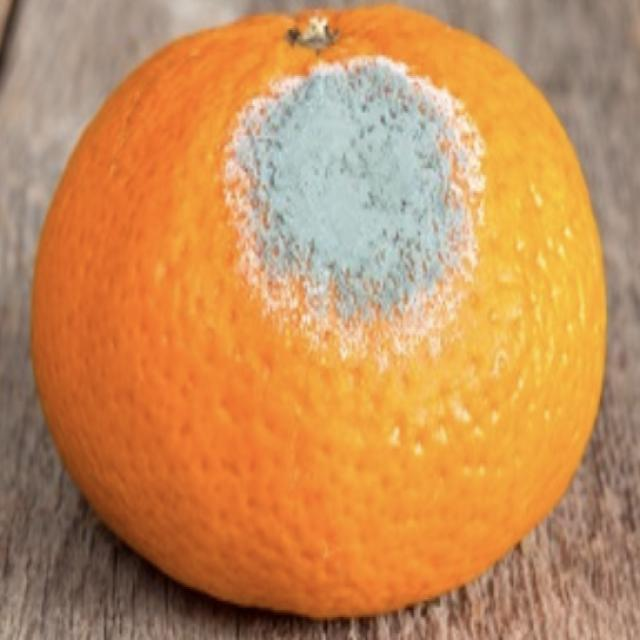sedikit-busuk: (32, 6, 605, 616)
